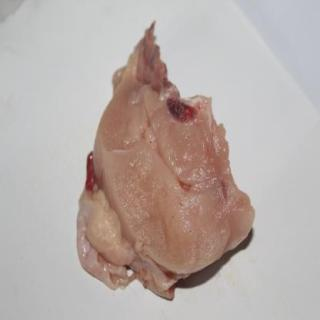Ayam: (77, 19, 258, 301)
